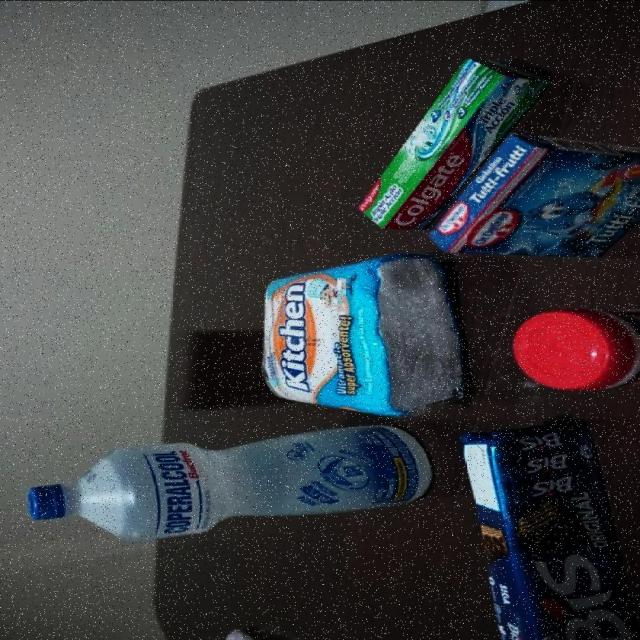AlcoholBottle: (26, 428, 431, 538)
Gelatine: (446, 138, 640, 254)
Napkin: (261, 250, 466, 411)
Toothpaste: (363, 77, 448, 229)
Yeast: (513, 306, 640, 390)
